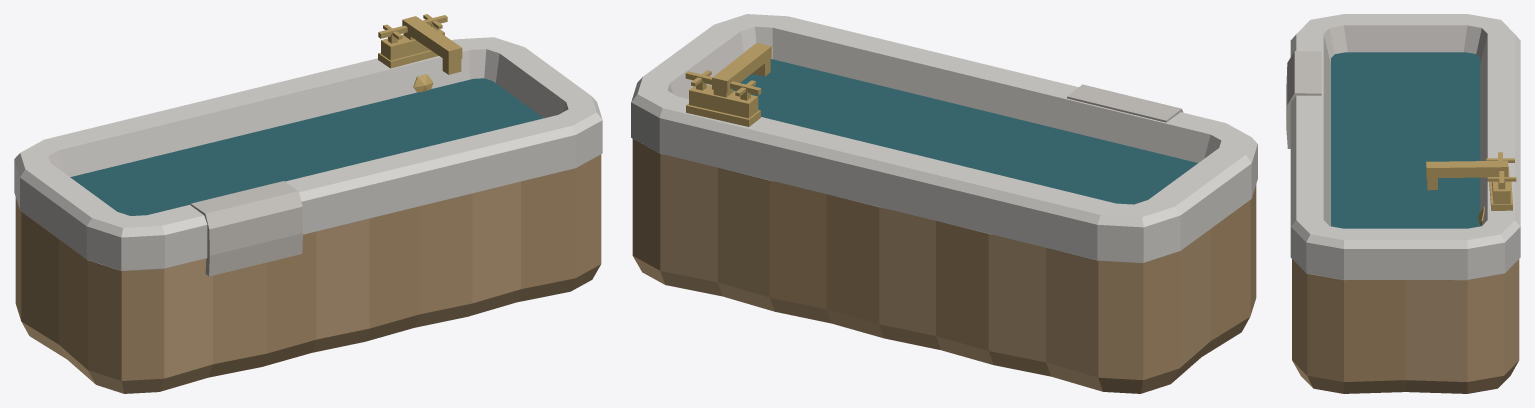
File: bath-fad968.glb
3 views of the same model, side by side, from view 1: azimuth 30°, elevation 25°; view 2: azimuth 150°, elevation 25°; view 3: azimuth 270°, elevation 25° (orthographic). The views are drawn at different scales.
Visible parts, largest first — view 1: bath, towel; view 2: bath, towel; view 3: bath, towel, handle-r.
Part boxes in pixels (x1,y1,x2,y2): bath: (14,16,602,393); towel: (190,181,302,276); bath: (631,14,1257,393); towel: (1067,84,1183,122); bath: (1290,14,1520,393); towel: (1286,51,1321,148); handle-r: (1487,171,1516,189).
Bounding box in the file's own units: 1.75 × 0.669 × 0.75.
